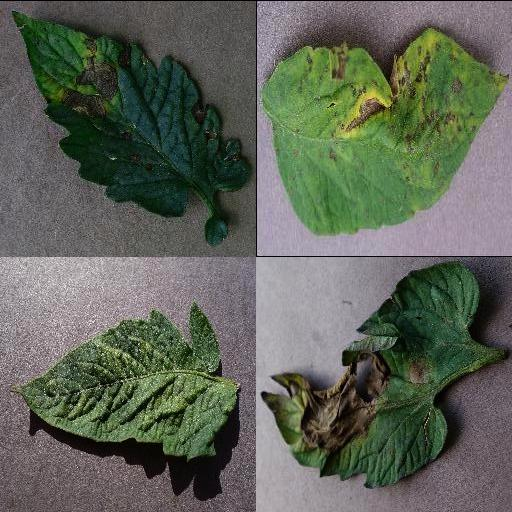Early Blight: (12, 10, 254, 217)
Late Blight: (258, 259, 480, 489)
Septoria: (259, 30, 509, 234)
Spider Mites: (11, 302, 243, 460)
